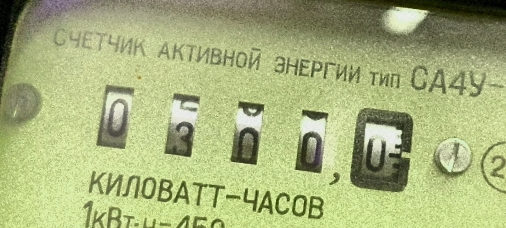0: (296, 127, 326, 173), (360, 130, 390, 175), (103, 93, 131, 141), (233, 123, 261, 166)
3: (169, 117, 196, 158)
screen: (73, 59, 437, 211)
